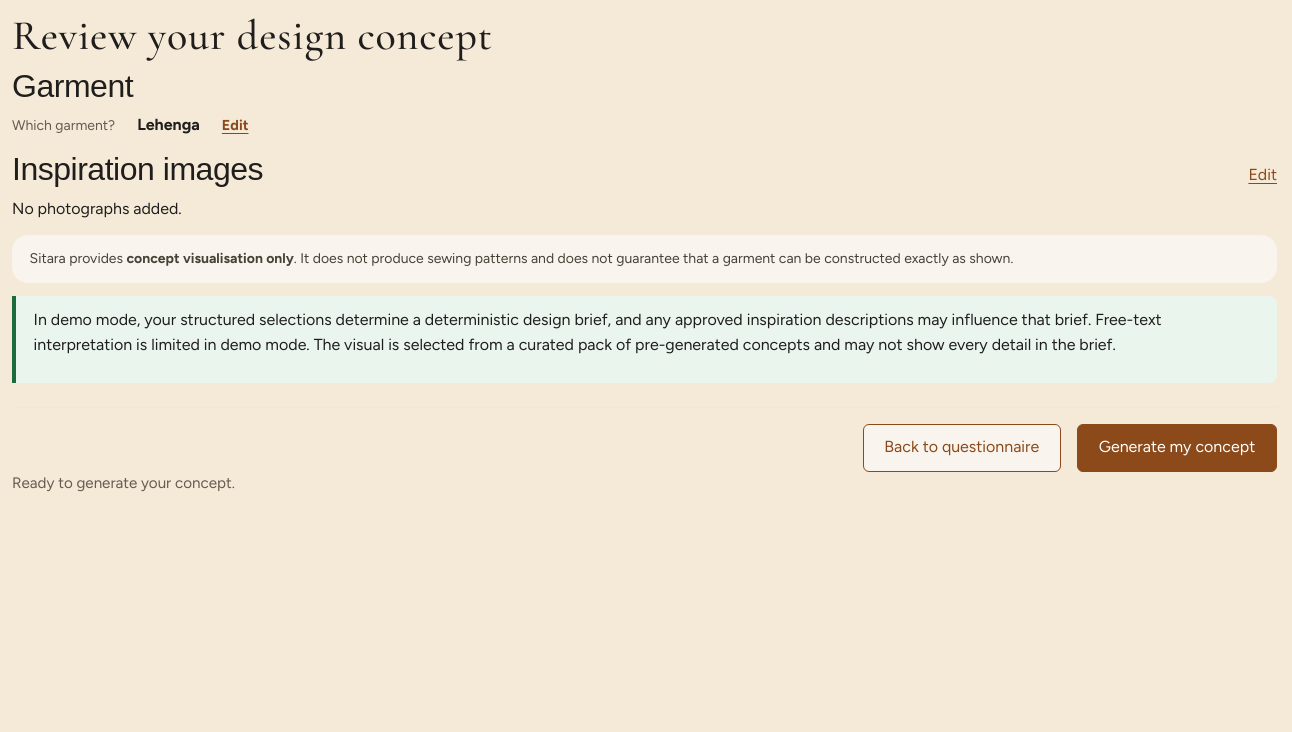
Test: ReviewSummary › Generate my concept › offers no retry control for live_generation_budget_exhausted, which an immediate retry cannot clear
The width and height of the screenshot is (1292, 732).
What coordinates should you click on to do the following:
click the button "Generate my concept"
I would click on:
 (1177, 448)
Its box is [1077, 424, 1277, 472].
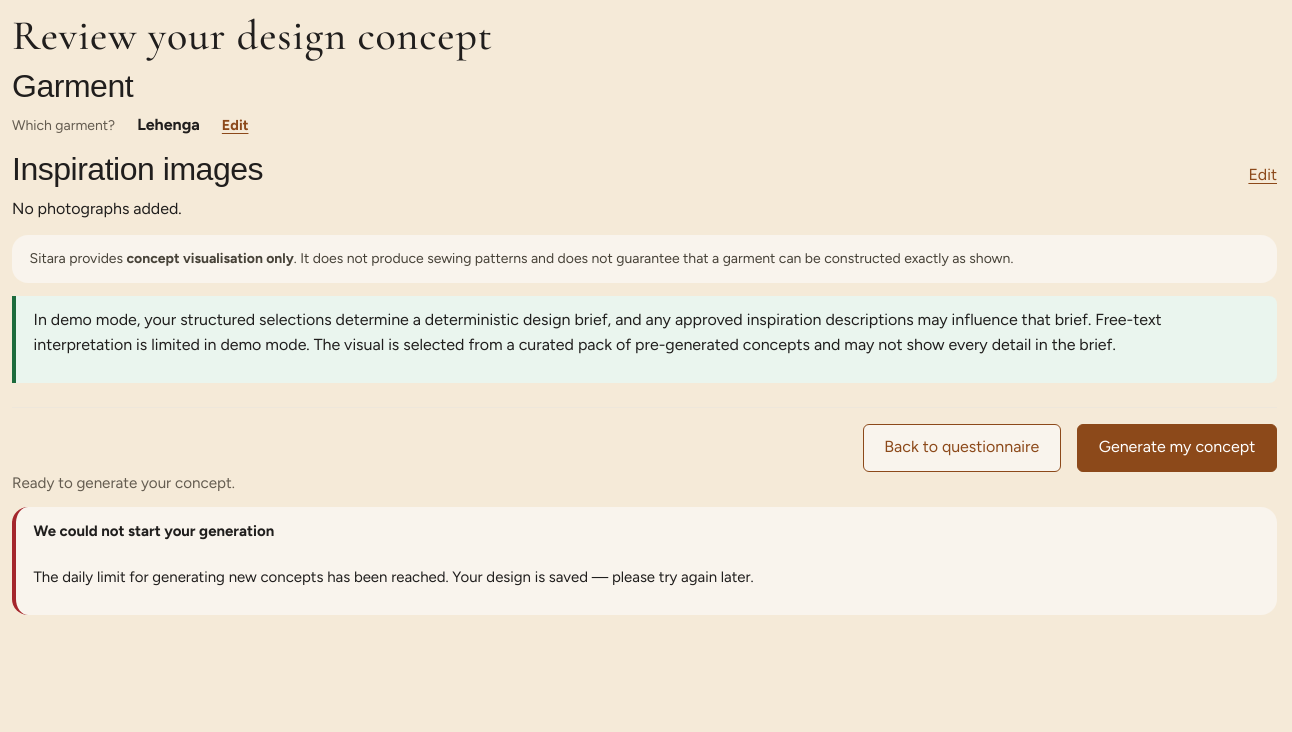
Result: the text "daily limit" is shown at [34, 568, 754, 586]
